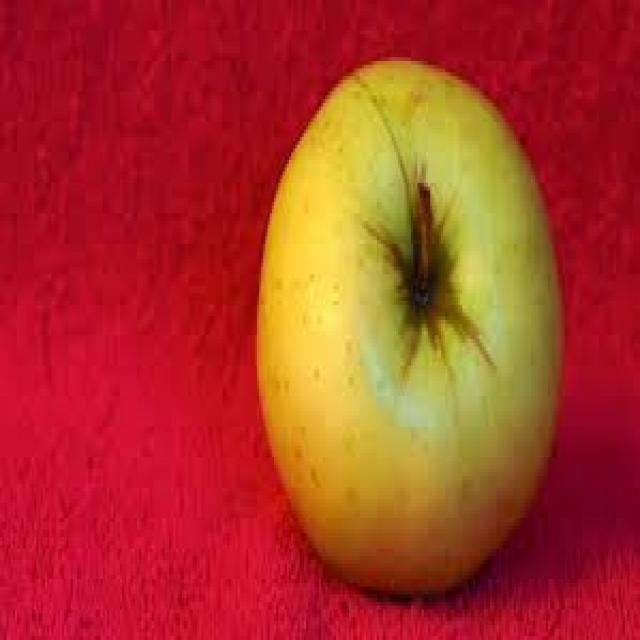Rotten: (272, 55, 576, 583)
